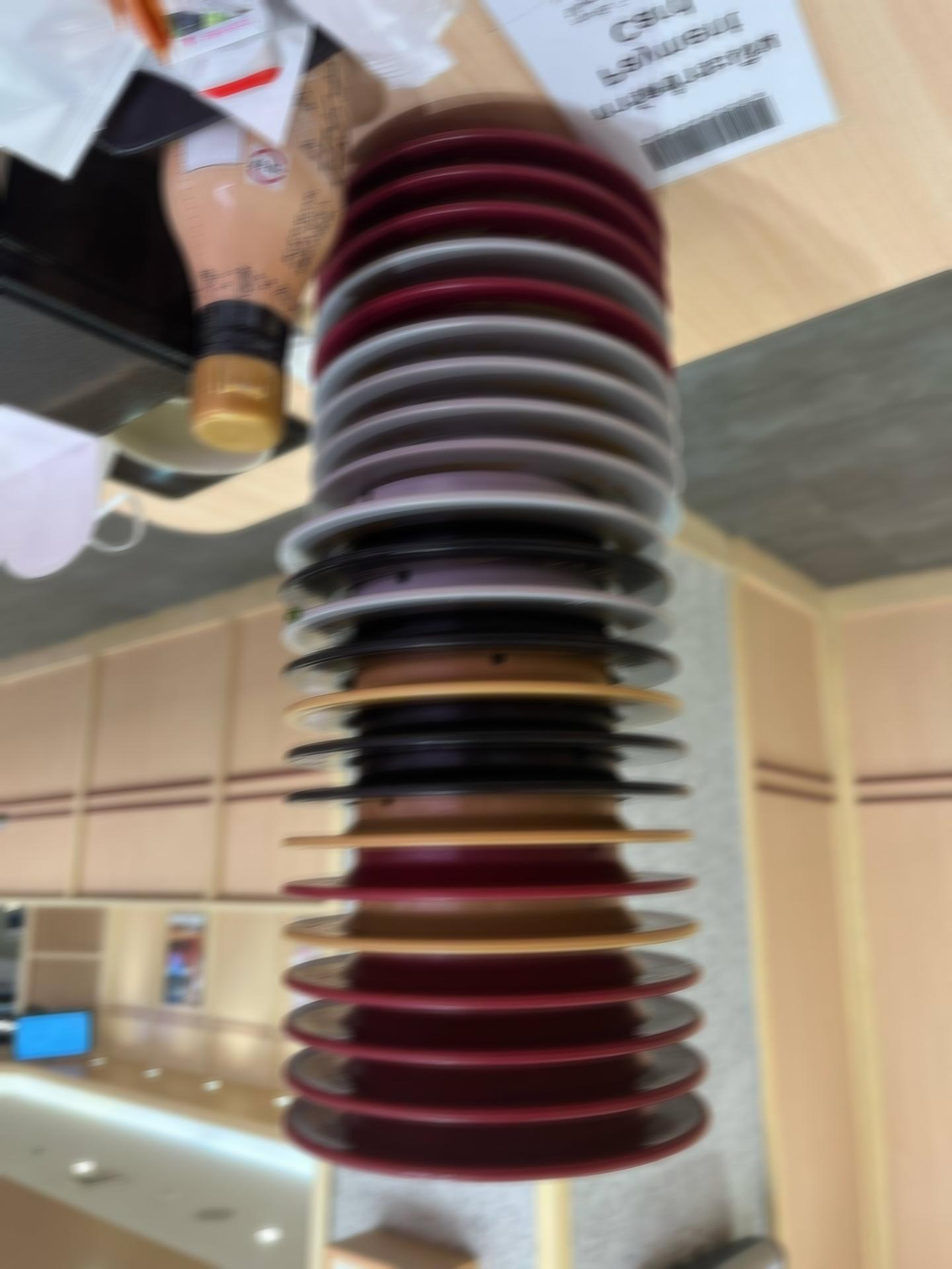Janback: (301, 756, 691, 797), (313, 712, 690, 750), (315, 623, 680, 654), (302, 537, 669, 562)
Jangold: (295, 905, 684, 950), (315, 660, 682, 703), (296, 800, 698, 839)
Janred: (279, 1121, 738, 1181), (296, 1072, 730, 1121), (314, 960, 695, 1013), (308, 1015, 724, 1062), (304, 855, 720, 895), (387, 287, 626, 311), (386, 175, 599, 198), (399, 133, 600, 157), (387, 214, 608, 231)
Janwhite: (337, 487, 633, 523), (343, 446, 657, 478), (360, 404, 648, 437), (326, 579, 650, 608), (376, 361, 636, 390), (363, 249, 636, 273), (395, 333, 626, 357)
